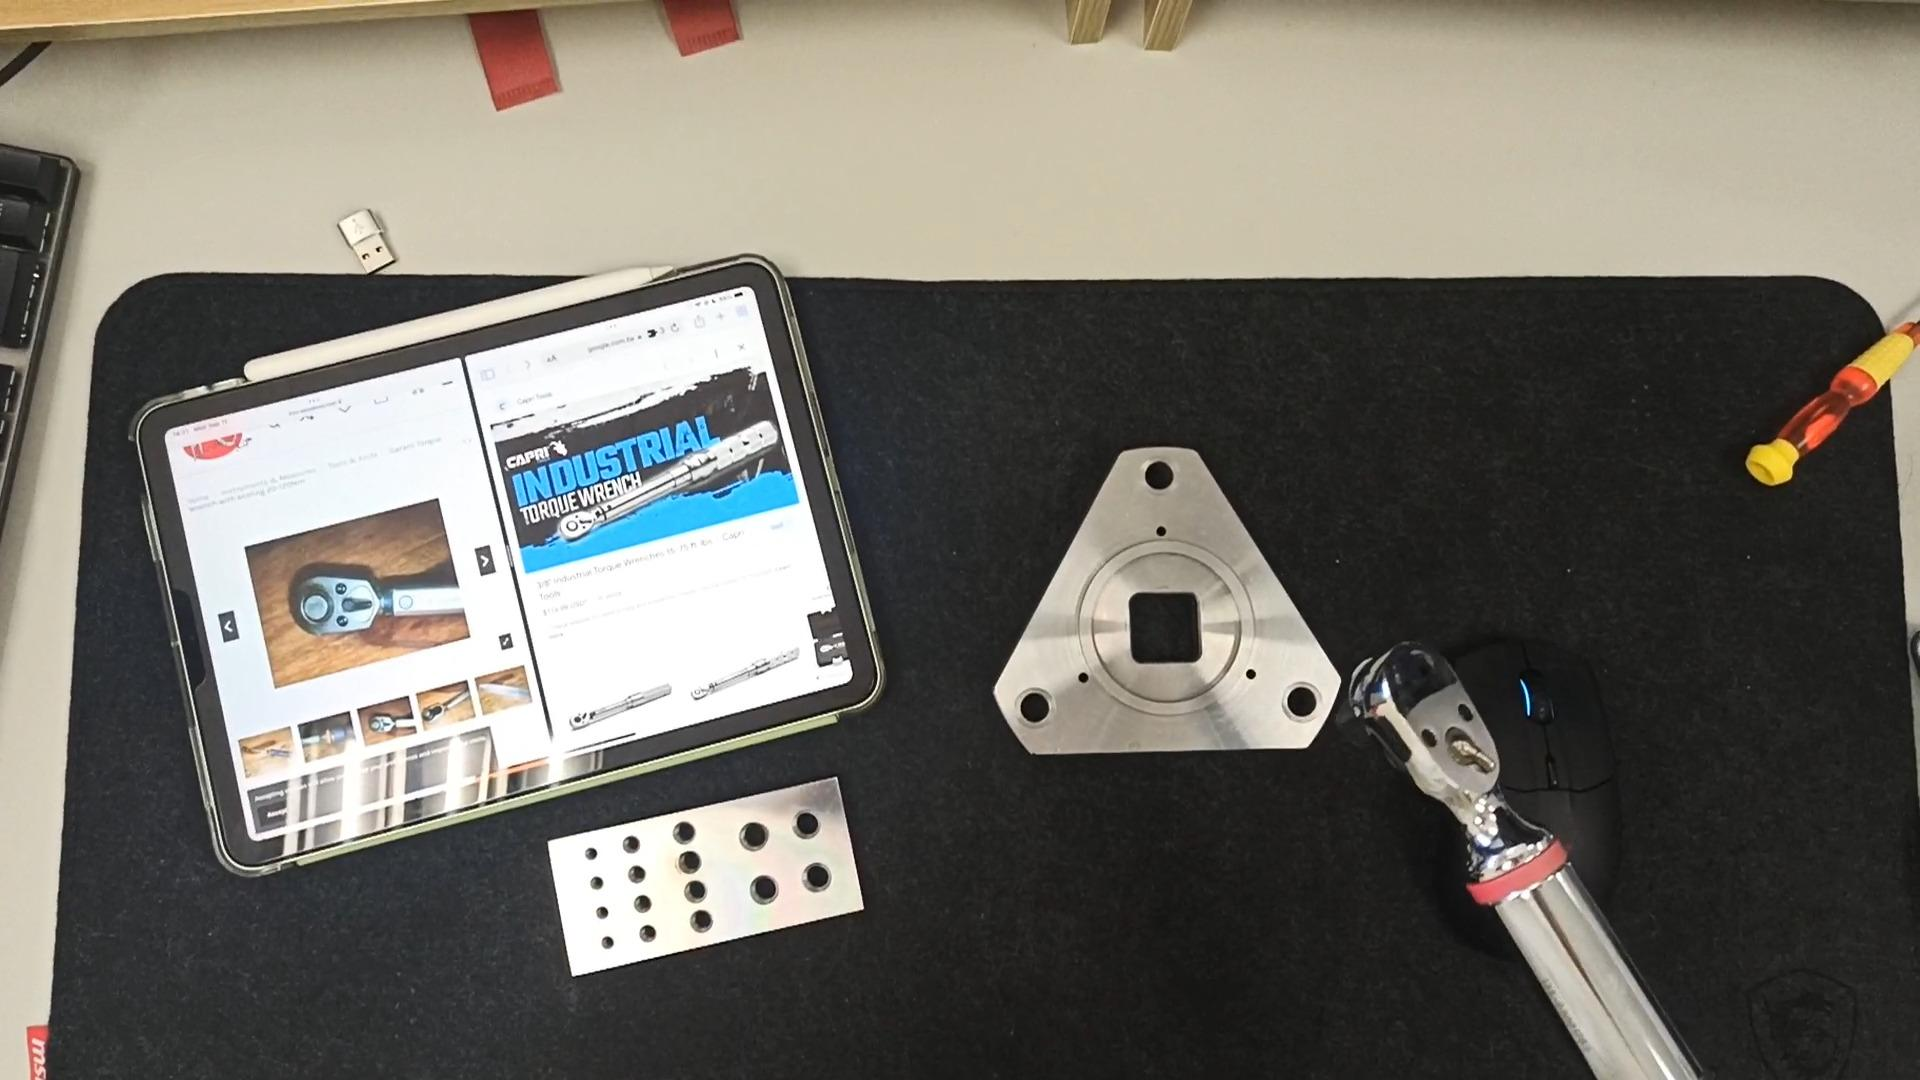Tool: (1353, 641, 1539, 861), (285, 562, 380, 650), (556, 505, 600, 541)
hole: (1013, 687, 1060, 738), (1284, 679, 1327, 727), (1137, 455, 1179, 500), (732, 819, 771, 855), (791, 808, 828, 845), (800, 861, 837, 898), (749, 874, 783, 909), (671, 818, 703, 848), (676, 880, 712, 905), (690, 909, 720, 936), (676, 852, 707, 880), (616, 835, 644, 861), (634, 922, 661, 947), (632, 887, 655, 915), (624, 864, 650, 887), (600, 930, 620, 953), (580, 845, 603, 865), (593, 902, 613, 922), (589, 873, 607, 890)
